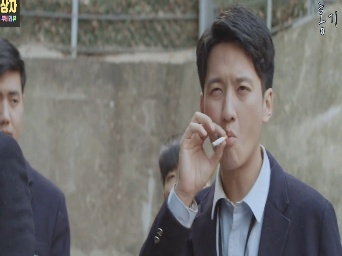smoke: (206, 133, 230, 148)
